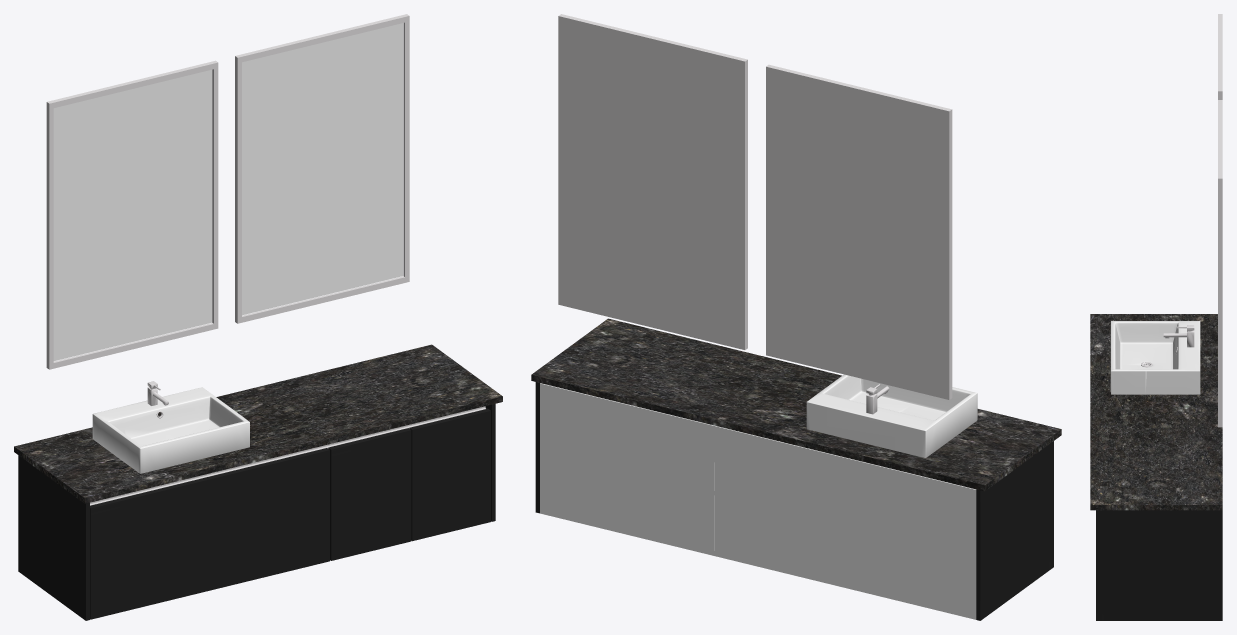
Rendered from REKA-final.glb.
3 renders of one model, left to right at view 1: azimuth 30°, elevation 25°; view 2: azimuth 150°, elevation 25°; view 3: azimuth 270°, elevation 25°, orthographic. The views are drawn at different scales.
Visible parts, largest first — view 1: REKA; view 2: REKA; view 3: REKA.
Boxes of the visible parts, x1,y1,x2,y2 form: REKA: (14, 14, 502, 620); REKA: (531, 14, 1061, 620); REKA: (1090, 14, 1222, 620).
Bounding box in the file's own units: 1.56 × 1.65 × 0.4584.
7 materials, 2 textured.
